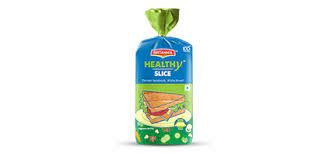bread: (128, 7, 197, 143)
